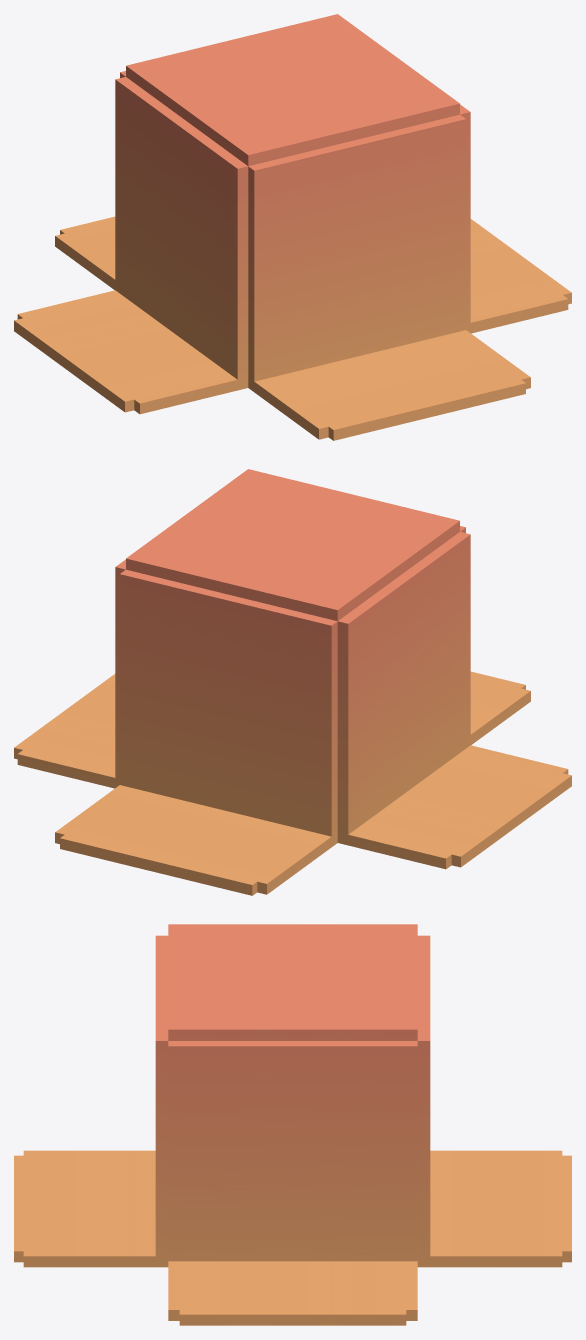
Rendered from Cardboard.fbx.
3 renders of one model, top to bottom at view 1: azimuth 30°, elevation 25°; view 2: azimuth 150°, elevation 25°; view 3: azimuth 270°, elevation 25°, orthographic. The views are drawn at different scales.
Visible parts, largest first — view 1: Cube.010; view 2: Cube.010; view 3: Cube.010.
Boxes of the visible parts, <box> form: Cube.010: <box>14,14,571,440</box>; Cube.010: <box>14,469,571,895</box>; Cube.010: <box>14,924,571,1325</box>.
Bounding box in the file's own units: 211 × 105 × 224.
